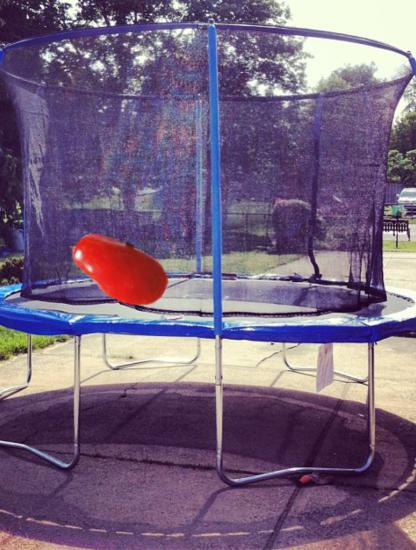Tomato: (65, 216, 172, 323)
